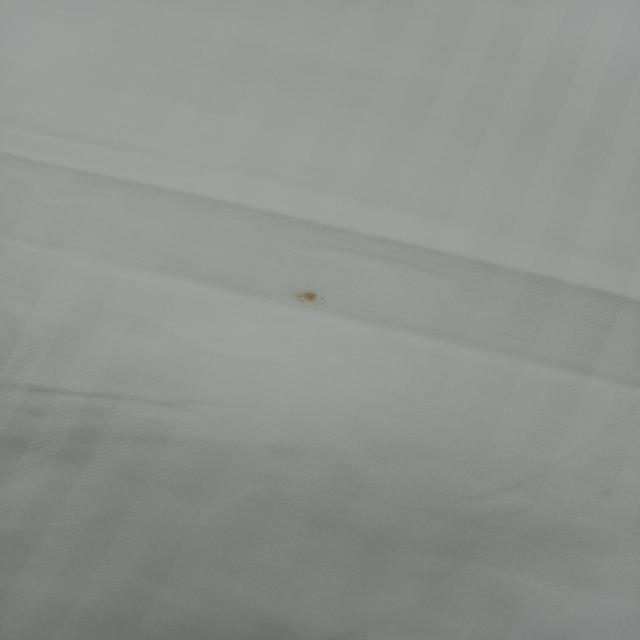stain: (279, 282, 333, 314)
